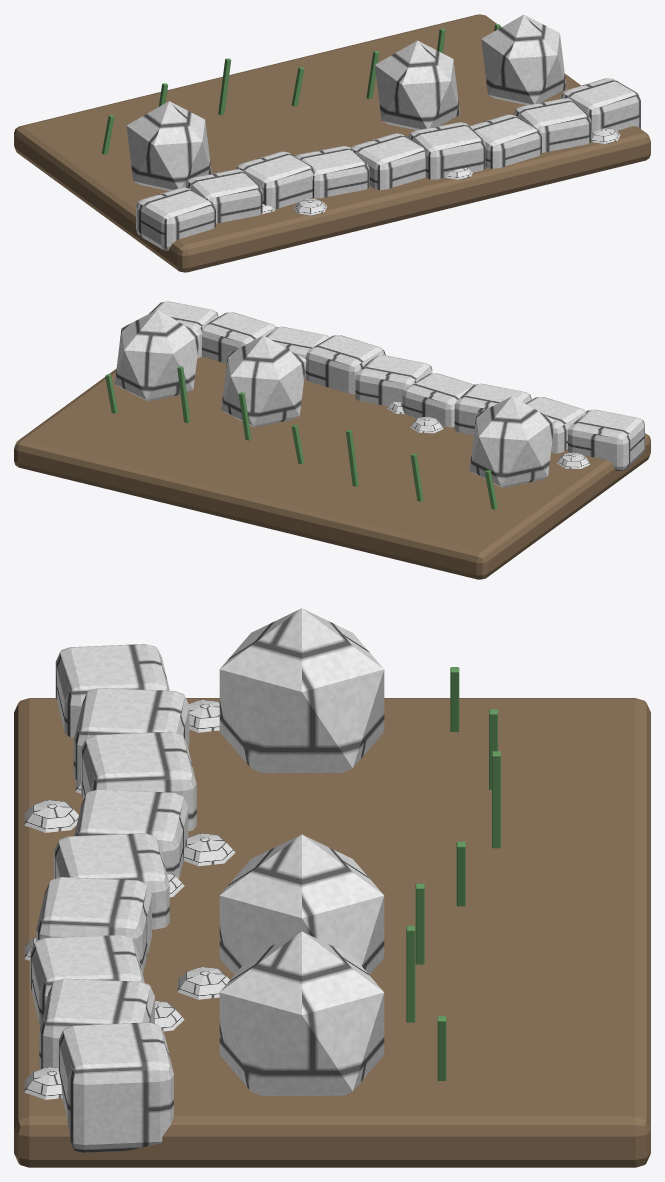
Rendered from riverbank.glb.
3 views of the same model, one above another, from view 1: azimuth 30°, elevation 25°; view 2: azimuth 150°, elevation 25°; view 3: azimuth 270°, elevation 25° (orthographic). The views are drawn at different scales.
Visible parts, largest first — view 1: RiverbankSection_Geometry; view 2: RiverbankSection_Geometry; view 3: RiverbankSection_Geometry.
Boxes of the visible parts, x1,y1,x2,y2 form: RiverbankSection_Geometry: [14, 14, 650, 272]; RiverbankSection_Geometry: [14, 301, 650, 579]; RiverbankSection_Geometry: [14, 608, 650, 1167].
Bounding box in the file's own units: 4.11 × 0.84 × 2.5.
Materials: 5 (3 with a texture image).
